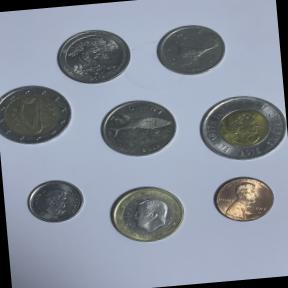1 Euro-B: (103, 177, 195, 248)
2 Euro-B: (0, 79, 78, 154)
Canada-10cent-B: (21, 176, 88, 231)
Canada-2Dollar-B: (192, 82, 288, 169)
Croatia-2Kune-B: (94, 89, 188, 167)
US-1cent-B: (206, 168, 282, 226)
US-25cent-B: (52, 24, 137, 88)
